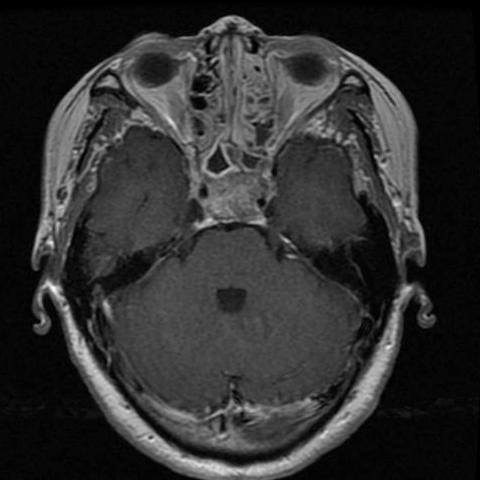Tumour-Pituitary: (186, 168, 283, 233)
